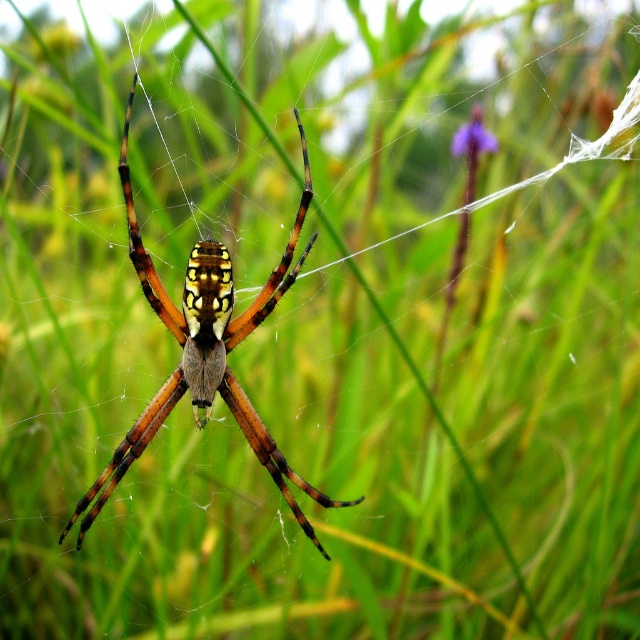Spider: (59, 72, 365, 561)
